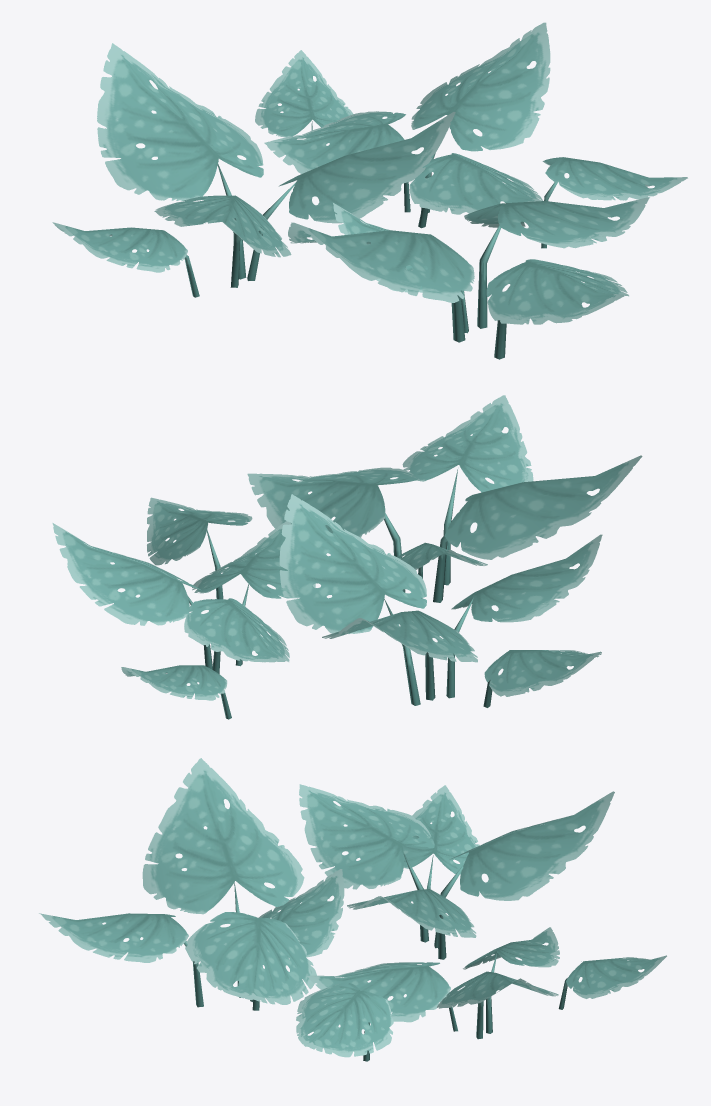
The model's file is SM_ENV_plant_ancient_12_02.fbx.
The picture shows the model from 3 angles, top to bottom: view 1: azimuth 30°, elevation 25°; view 2: azimuth 150°, elevation 25°; view 3: azimuth 270°, elevation 25°; orthographic projection. The views are drawn at different scales.
Visible parts, largest first — view 1: SM_ENV_plant_ancient_12_02_LOD0; view 2: SM_ENV_plant_ancient_12_02_LOD0; view 3: SM_ENV_plant_ancient_12_02_LOD0.
Part boxes in pixels (x1=…): SM_ENV_plant_ancient_12_02_LOD0: x1=52, y1=22, x2=687, y2=359; SM_ENV_plant_ancient_12_02_LOD0: x1=52, y1=395, x2=642, y2=719; SM_ENV_plant_ancient_12_02_LOD0: x1=39, y1=758, x2=666, y2=1061.
Bounding box in the file's own units: 66.81 × 20.5 × 76.35.
